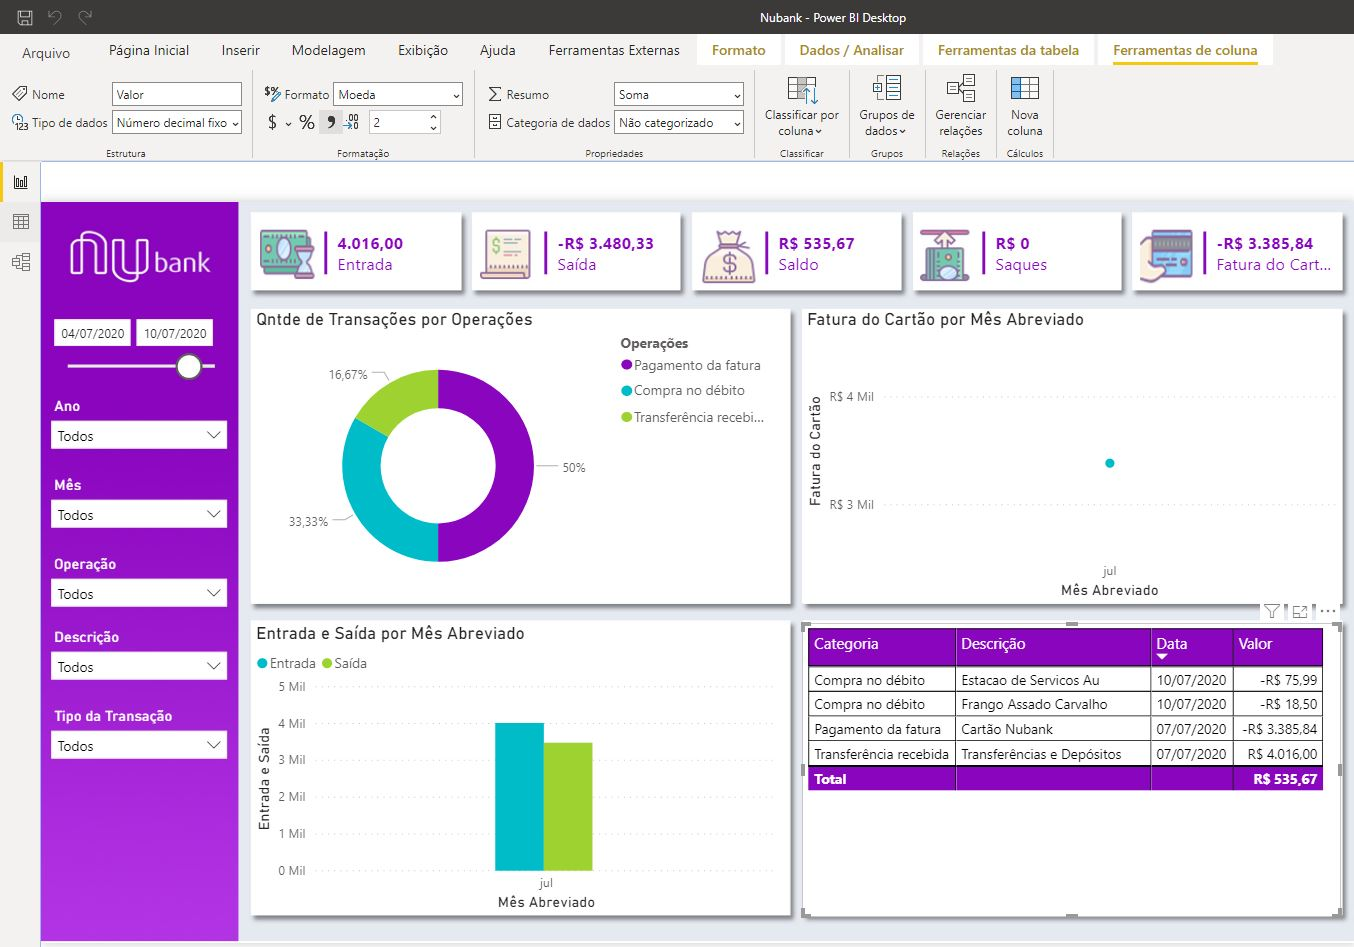

Layout of this report page (visuals, bound fields, positions):
{"tool":"powerbi","page":{"name":"Conta Corrente","canvas":[1280,720],"ordinal":0},"visuals":[{"type":"areaChart","title":"Fatura do Cartão por Mês","fields":{"Category":["Calendário.Ano Hierarquia.Ano","Calendário.Ano Hierarquia.Mês Abreviado","Calendário.Ano Hierarquia.Dia"],"Y":["_Medidas.Fatura ABS"]},"box":[740.2,104.1,524.3,286],"z":0},{"type":"clusteredColumnChart","title":"Entrada e Saída por Mês","fields":{"Category":["Calendário.Ano Hierarquia.Ano","Calendário.Ano Hierarquia.Mês Abreviado","Calendário.Ano Hierarquia.Dia"],"Y":["_Medidas.Entrada","_Medidas.Saída Mod"]},"box":[204.3,409.5,517.4,284],"z":1000},{"type":"multiRowCard","fields":{"Values":["_Medidas.Entrada"]},"box":[270.4,23.3,135.2,61.3],"z":2000},{"type":"multiRowCard","fields":{"Values":["_Medidas.Saída"]},"box":[484.1,23.7,135.9,60.5],"z":3000},{"type":"multiRowCard","fields":{"Values":["_Medidas.Saques"]},"box":[910.4,23.3,140.1,61.3],"z":5000},{"type":"multiRowCard","fields":{"Values":["_Medidas.Fatura do Cartão"]},"box":[1125.3,23.3,139.1,61.3],"z":6000},{"type":"multiRowCard","fields":{"Values":["_Medidas.Soma Valor"]},"box":[699,23.7,135.9,60.5],"z":6001},{"type":"donutChart","fields":{"Y":["_Medidas.Qntde de Transações"],"Category":["Conta Corrente.titulo"]},"box":[204.3,104.1,517.4,286],"z":6002},{"type":"slicer","fields":{"Values":["Calendário.Date"]},"box":[0,104.4,190.3,80.7],"z":6003},{"type":"tableEx","fields":{"Values":["Conta Corrente.titulo","Conta Corrente.Descrição","Conta Corrente.data","Conta Corrente.Valor"]},"box":[740.2,409.5,524.3,286],"z":6004},{"type":"slicer","fields":{"Values":["Calendário.Ano"]},"box":[0,184.8,190.6,76.8],"z":6005},{"type":"slicer","fields":{"Values":["Calendário.Mês nome"]},"box":[0,261.6,190.6,76.8],"z":6006},{"type":"slicer","fields":{"Values":["Conta Corrente.operacao"]},"box":[0,338.5,190.6,76.8],"z":6007},{"type":"slicer","fields":{"Values":["Conta Corrente.Descrição"]},"box":[0,409.5,190.6,76.8],"z":6008},{"type":"slicer","fields":{"Values":["Conta Corrente.titulo"]},"box":[0,486.3,190.6,76.8],"z":6009}]}

Visuals, with their boxes on the page's 1280x720 design canvas (x1, y1, x2, y2). These are canvas units, not pixel positions in the 1354x947 screenshot, which may show the page scaled, cropped or inside an application window:
"Fatura do Cartão por Mês" areaChart: region(740, 104, 1264, 390)
"Entrada e Saída por Mês" clusteredColumnChart: region(204, 410, 722, 694)
multiRowCard - _Medidas.Entrada: region(270, 23, 406, 85)
multiRowCard - _Medidas.Saída: region(484, 24, 620, 84)
multiRowCard - _Medidas.Saques: region(910, 23, 1050, 85)
multiRowCard - _Medidas.Fatura do Cartão: region(1125, 23, 1264, 85)
multiRowCard - _Medidas.Soma Valor: region(699, 24, 835, 84)
donutChart - _Medidas.Qntde de Transações x Conta Corrente.titulo: region(204, 104, 722, 390)
slicer - Calendário.Date: region(0, 104, 190, 185)
tableEx - Conta Corrente.titulo x Conta Corrente.Descrição: region(740, 410, 1264, 696)
slicer - Calendário.Ano: region(0, 185, 191, 262)
slicer - Calendário.Mês nome: region(0, 262, 191, 338)
slicer - Conta Corrente.operacao: region(0, 338, 191, 415)
slicer - Conta Corrente.Descrição: region(0, 410, 191, 486)
slicer - Conta Corrente.titulo: region(0, 486, 191, 563)
